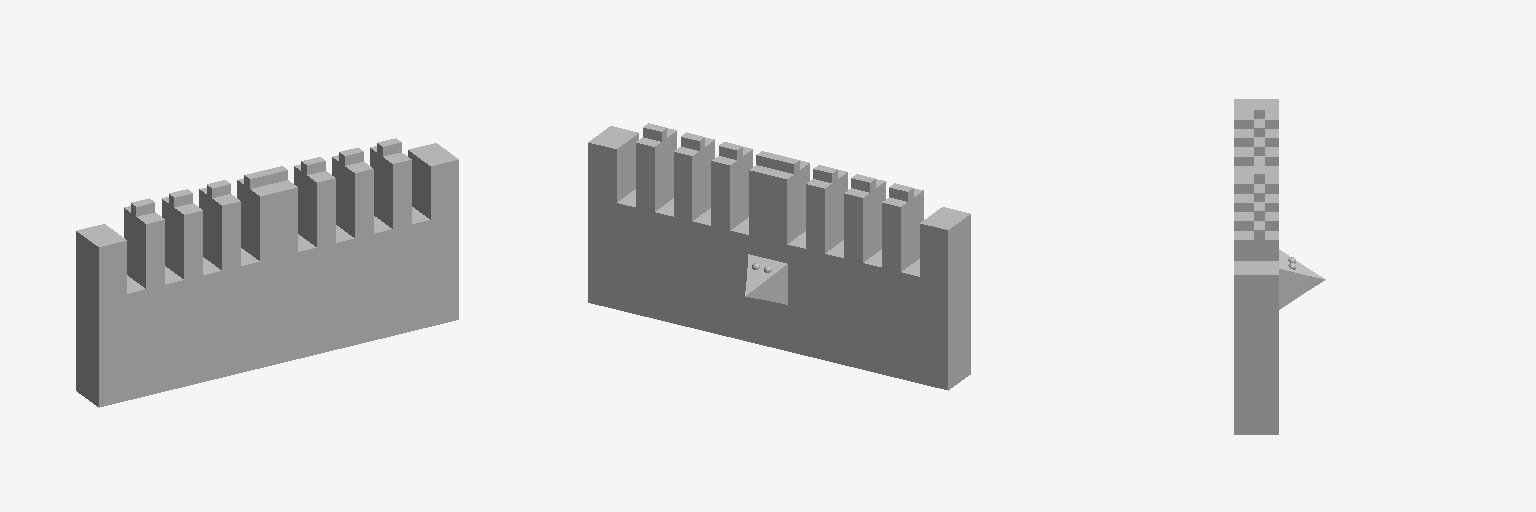
Rendered from generic_object_bamboowall.obj.
The picture shows the model from 3 angles: view 1: azimuth 30°, elevation 25°; view 2: azimuth 150°, elevation 25°; view 3: azimuth 270°, elevation 25°; orthographic projection.
Parts seen in each view (by area): view 1: Cube; view 2: Cube; view 3: Cube.
Boxes of the visible parts, box(x1,y1,x2,y2) form: Cube: box(76, 138, 458, 407); Cube: box(588, 123, 970, 390); Cube: box(1234, 99, 1307, 434).
Size of the model in its own units: 18.26 by 8.8 by 4.04.